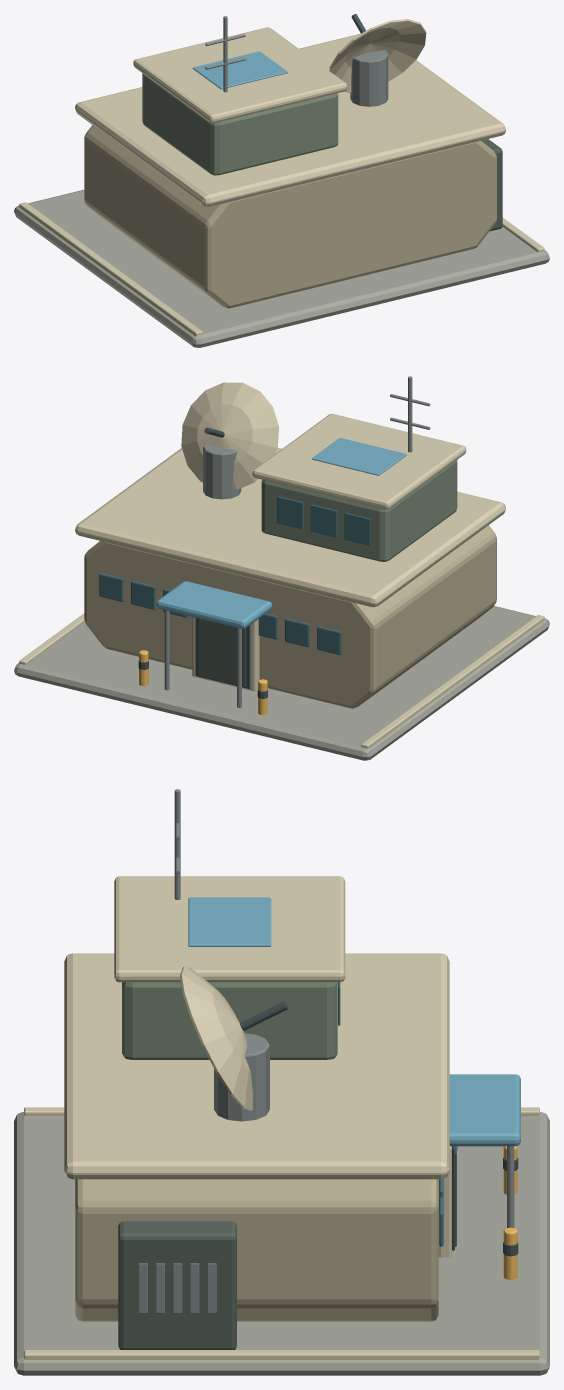
The model's file is command.glb.
3 renders of one model, top to bottom at view 1: azimuth 30°, elevation 25°; view 2: azimuth 150°, elevation 25°; view 3: azimuth 270°, elevation 25°, orthographic. The views are drawn at different scales.
Parts seen in each view (by area): view 1: body; view 2: body; view 3: body.
Part boxes in pixels (bbox=[...]): body: bbox=[14, 14, 549, 347]; body: bbox=[14, 376, 549, 760]; body: bbox=[14, 789, 549, 1375].
Bounding box in the file's own units: 8.4 × 6.13 × 7.5.
